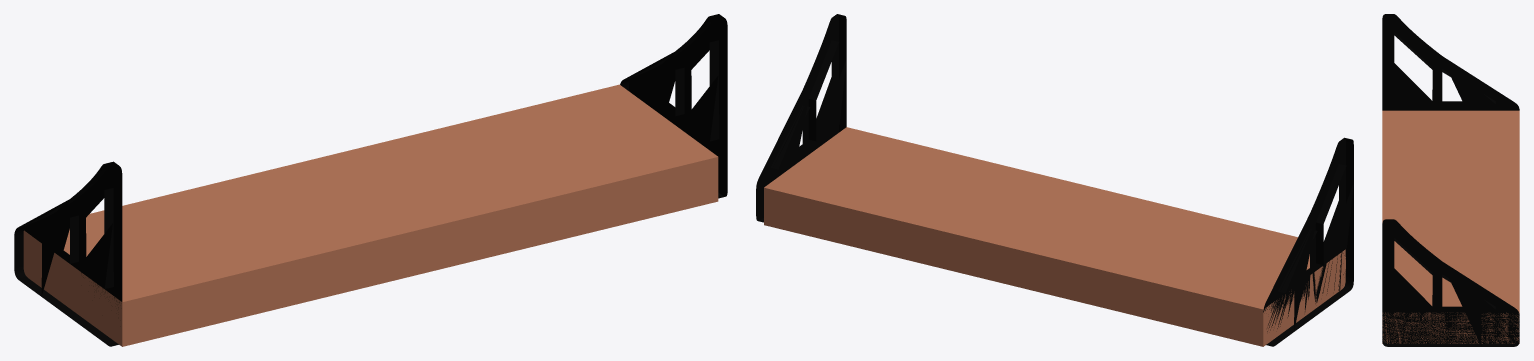
File: polka.fbx
The picture shows the model from 3 angles, left to right: view 1: azimuth 30°, elevation 25°; view 2: azimuth 150°, elevation 25°; view 3: azimuth 270°, elevation 25°; orthographic projection. The views are drawn at different scales.
Visible parts, largest first — view 1: polka; view 2: polka; view 3: polka.
Boxes of the visible parts, x1=… form: polka: x1=14, y1=14, x2=727, y2=346; polka: x1=756, y1=14, x2=1353, y2=346; polka: x1=1382, y1=14, x2=1519, y2=346.
Bounding box in the file's own units: 718 × 200 × 200.
